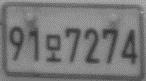1: (27, 25, 40, 61)
2: (83, 27, 101, 64)
4: (120, 28, 139, 65)
7: (62, 26, 82, 64), (100, 27, 120, 64)
9: (8, 26, 24, 61)
모: (43, 33, 62, 63)
